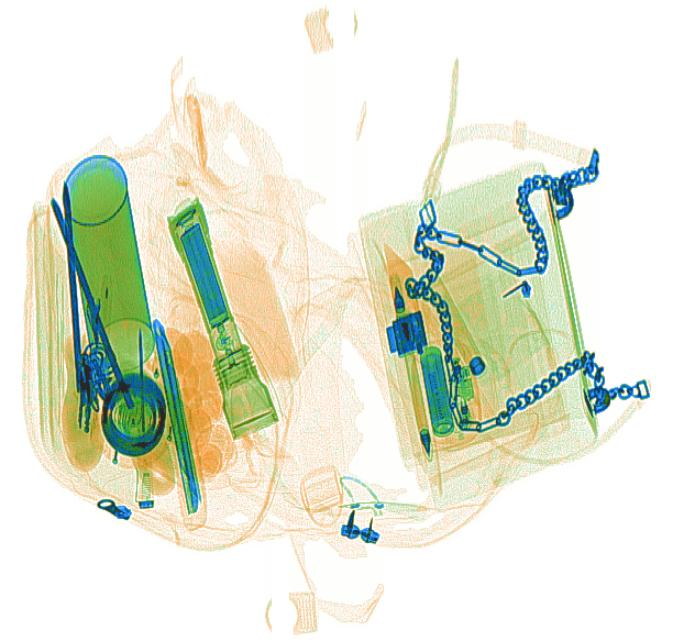battery: (178, 222, 231, 330), (418, 345, 455, 438)
knife: (152, 318, 208, 532)
